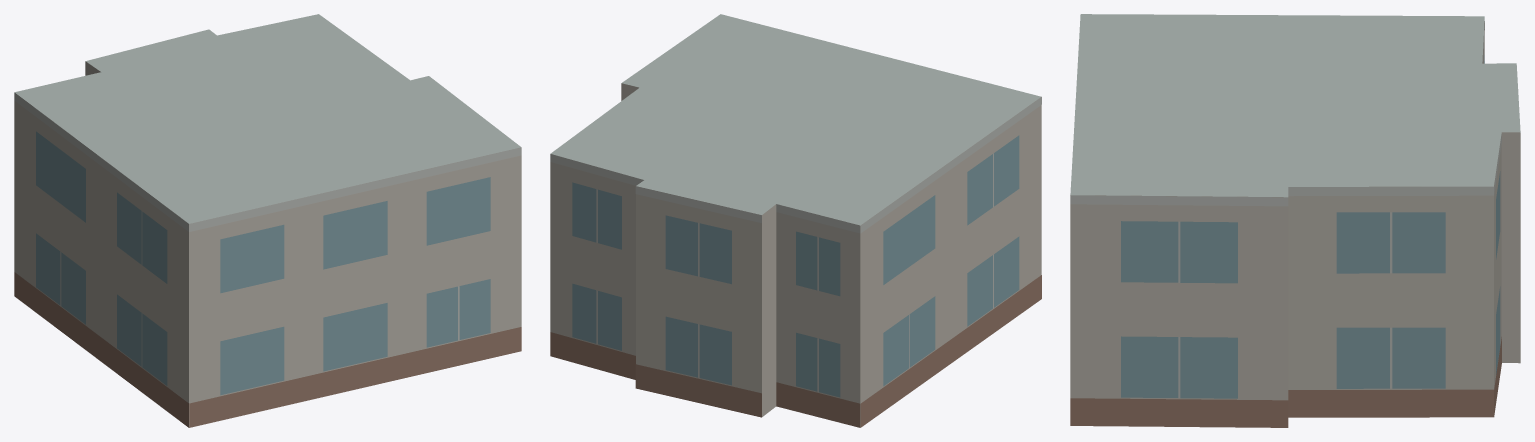
Rendered from survey-upis-32972822.glb.
The picture shows the model from 3 angles, left to right: view 1: azimuth 30°, elevation 25°; view 2: azimuth 150°, elevation 25°; view 3: azimuth 270°, elevation 25°; orthographic projection. The views are drawn at different scales.
Parts seen in each view (by area): view 1: survey-upis-32972822.tmp; view 2: survey-upis-32972822.tmp; view 3: survey-upis-32972822.tmp.
Part boxes in pixels (x1=…): survey-upis-32972822.tmp: x1=14, y1=14, x2=521, y2=427; survey-upis-32972822.tmp: x1=550, y1=14, x2=1041, y2=427; survey-upis-32972822.tmp: x1=1070, y1=14, x2=1520, y2=427.
Size of the model in its own units: 10.4 by 6.1 by 10.8.
